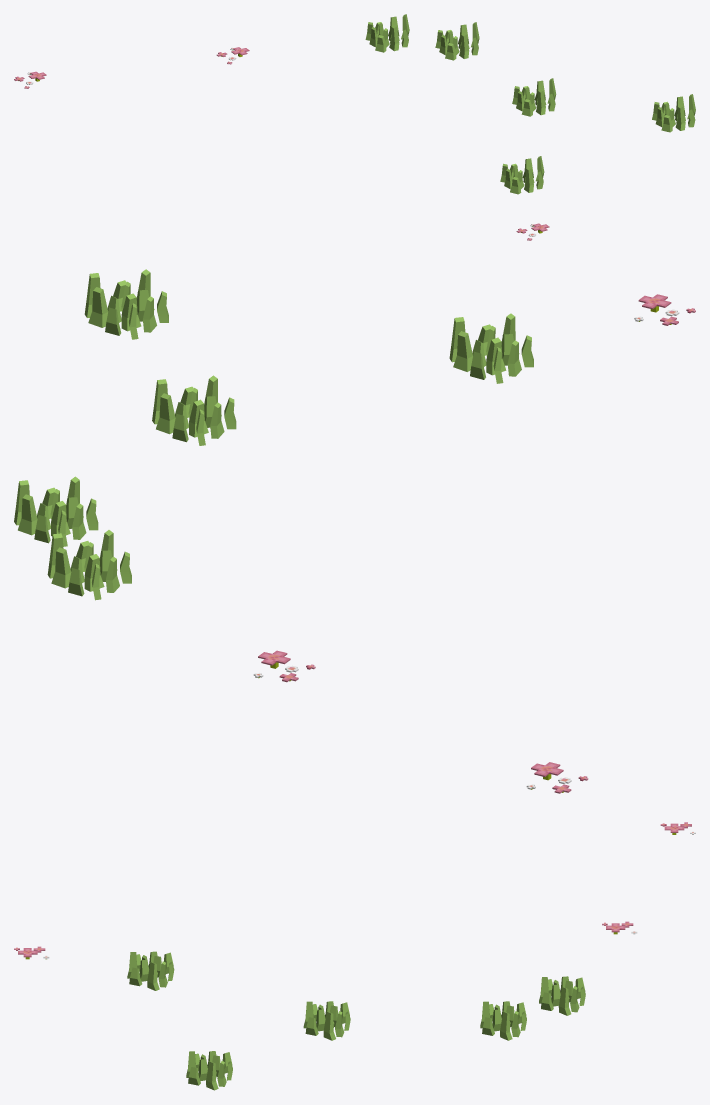
The model's file is flower_grass 15.fbx.
The picture shows the model from 3 angles, top to bottom: view 1: azimuth 30°, elevation 25°; view 2: azimuth 150°, elevation 25°; view 3: azimuth 270°, elevation 25°; orthographic projection. The views are drawn at different scales.
Visible parts, largest first — view 1: Grass_1; view 2: Grass_1; view 3: Grass_1.
Boxes of the visible parts, bbox=[...] form: Grass_1: bbox=[14, 14, 695, 240]; Grass_1: bbox=[14, 269, 695, 793]; Grass_1: bbox=[14, 822, 695, 1090].
Size of the model in its own units: 6434 by 294 by 6960.
2 materials, 2 textured.
